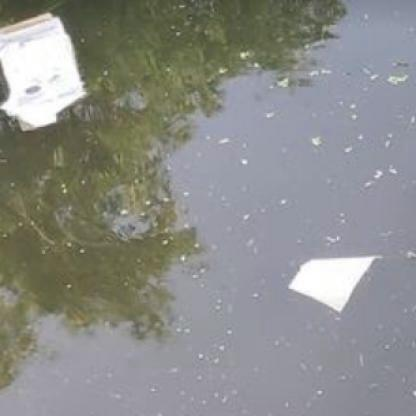Trash: (0, 11, 89, 134), (287, 252, 385, 314)
